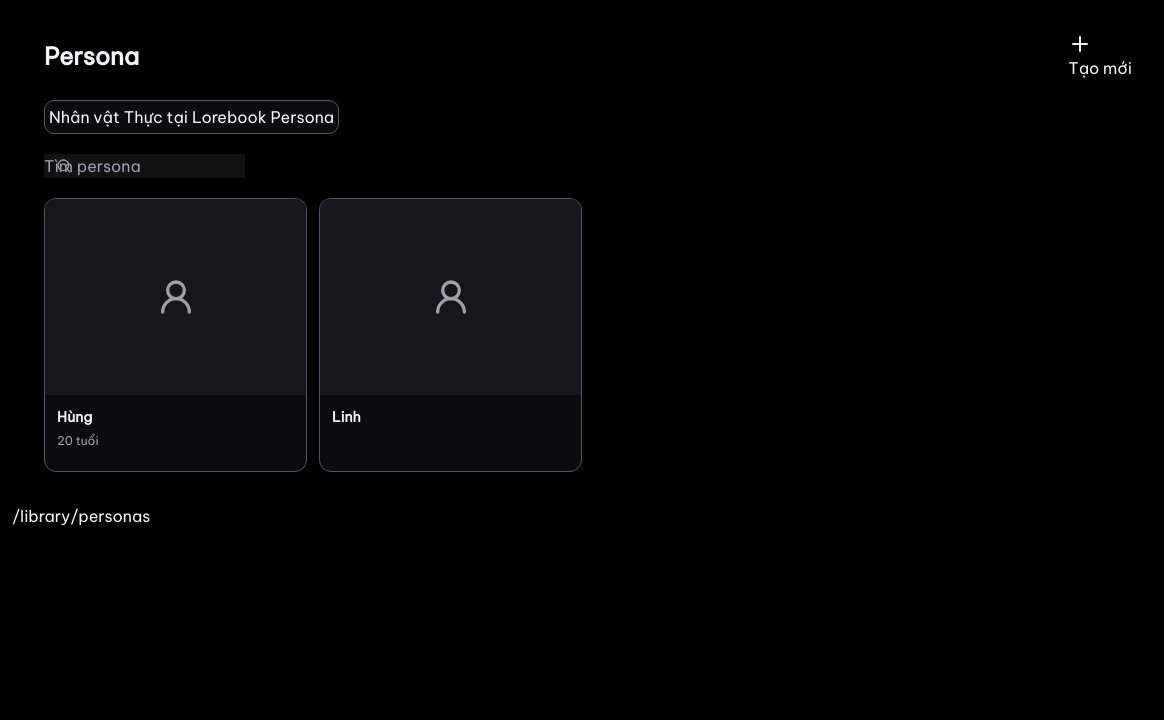
Test: other lists › filters personas by name on the client
The image size is (1164, 720).
Check: the heading "Hùng" is shown, box [57,408,92,426]
Type "lin" into the search field labelled "Tìm persona" at (144, 166), box [44,154,245,178]
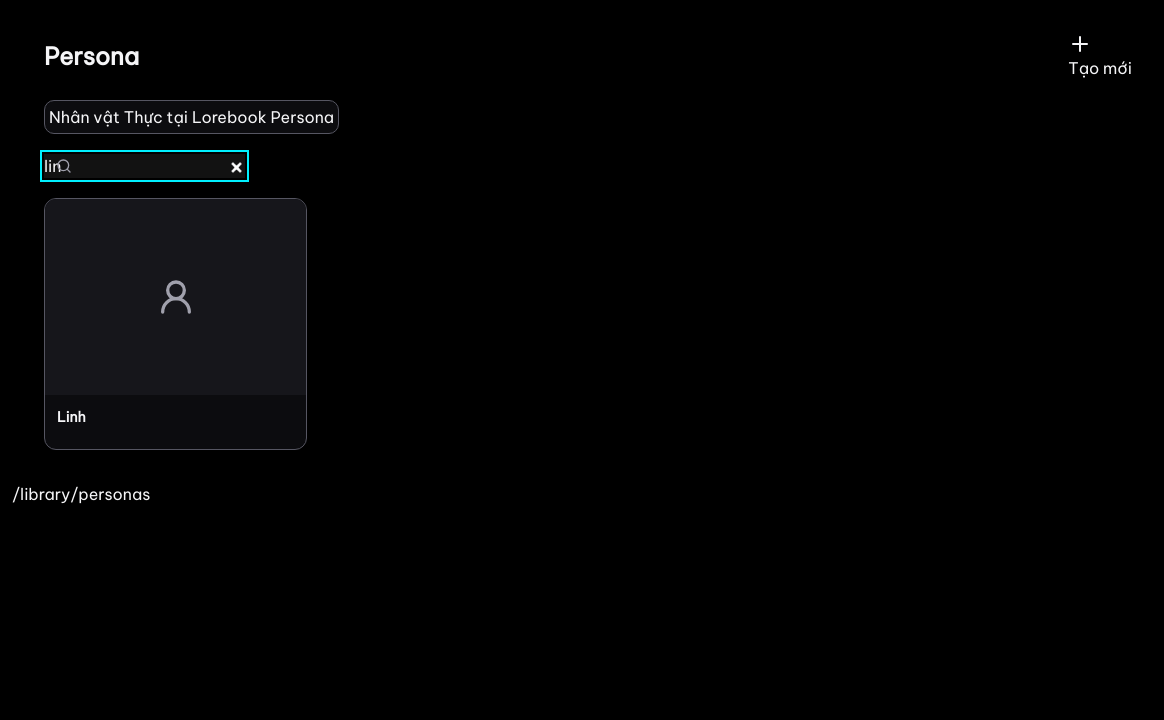
Check: the heading "Linh" is shown, box [57,408,86,426]
Check: the link "Hùng" is gone
